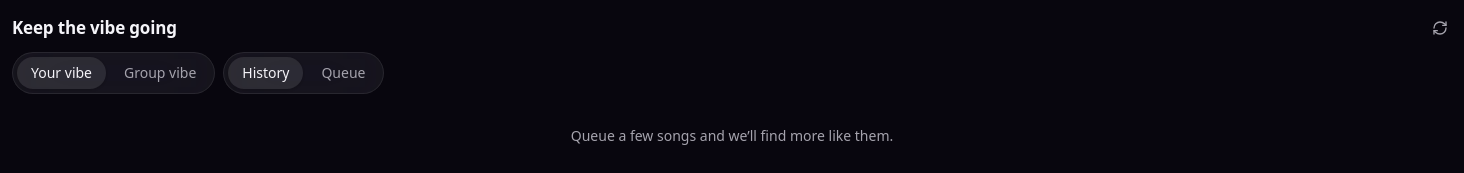
Test case: VibeSuggestions › reads the vibe from what's queued
This screenshot has width=1464, height=173.
Expected: the text "Queue a few songs and we’ll find more like them." is shown, x1=571 y1=126 x2=893 y2=145
What coordinates should you click on to do the following:
click the radio button labelled "Queue"
I would click on:
 (343, 73)
Its box is x1=307 y1=57 x2=379 y2=89.
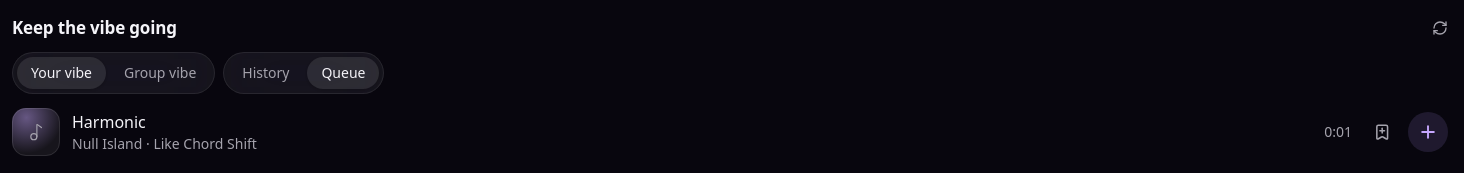
Now the text "Harmonic" is shown, box x1=72 y1=110 x2=146 y2=134
